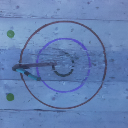Axe Tip: (18, 66, 29, 68)
